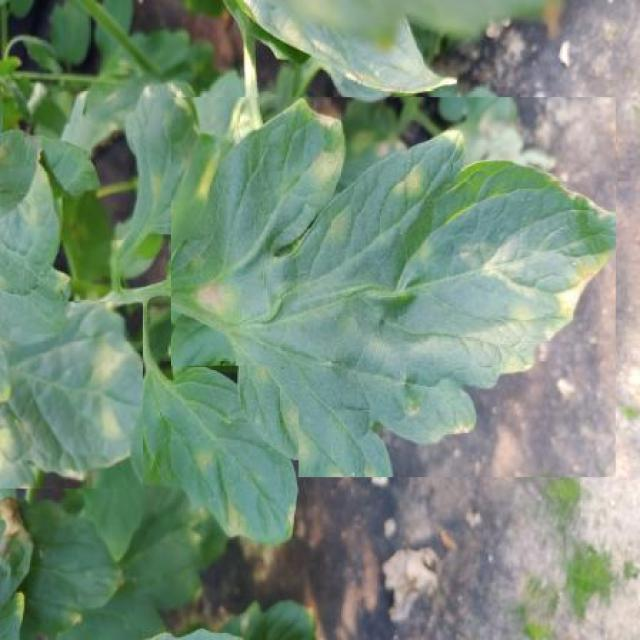Leaf Mold: (171, 97, 616, 477), (120, 366, 299, 547), (0, 302, 143, 488)
